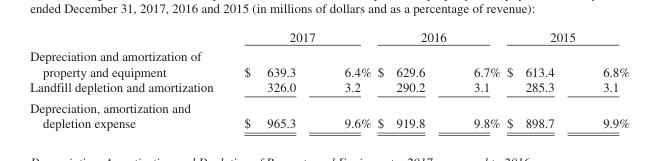table: (29, 29, 629, 130)
table column: (29, 29, 228, 130), (228, 29, 319, 130), (373, 29, 448, 130), (502, 29, 577, 130), (319, 29, 373, 130), (448, 29, 502, 130), (577, 29, 629, 130)
table column header: (29, 29, 629, 78)
table row: (29, 96, 629, 130), (29, 53, 629, 78), (29, 29, 629, 53), (29, 78, 629, 96)
table spanning cell: (29, 29, 228, 78), (228, 29, 373, 53), (373, 29, 502, 53), (502, 29, 629, 53)
